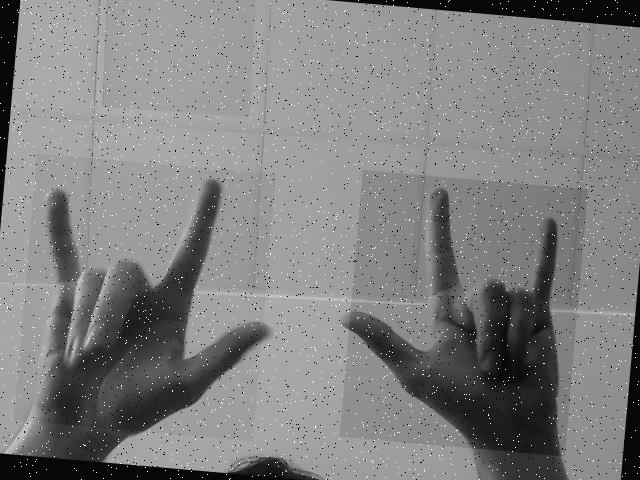I_Love_You: (13, 154, 276, 440), (339, 170, 587, 456)
